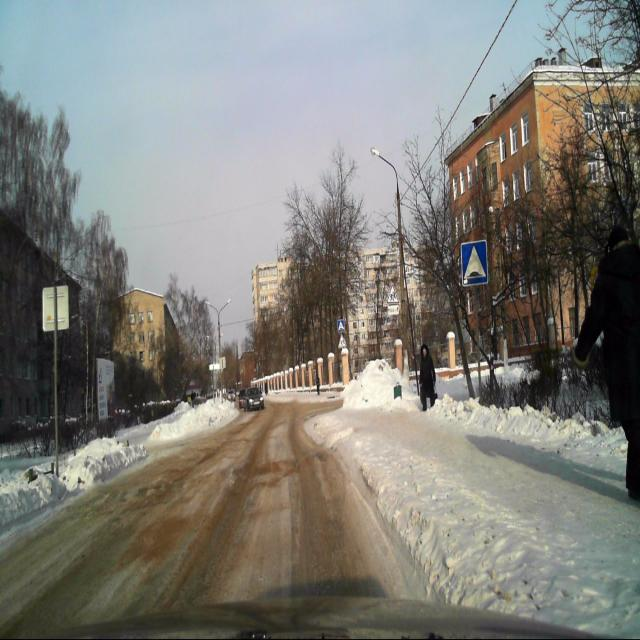road sign: (461, 241, 488, 284), (386, 284, 399, 304), (338, 332, 346, 348)
